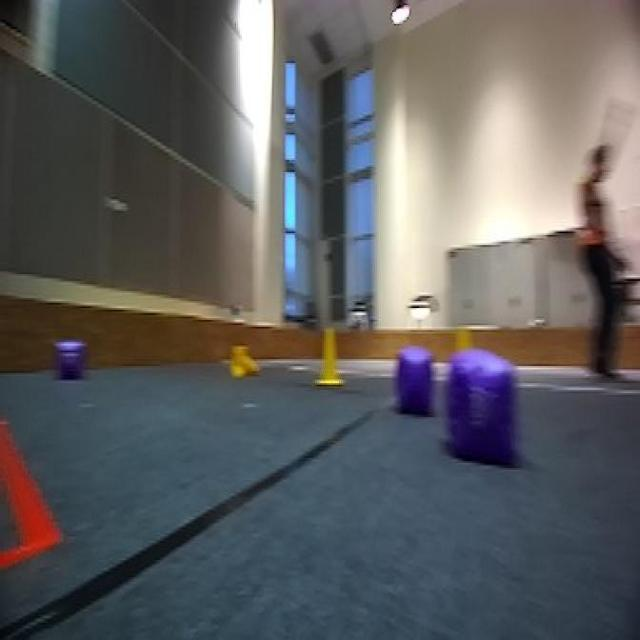frc_cone: (313, 325, 344, 392), (229, 342, 260, 380)
frc_cube: (443, 352, 520, 462), (391, 344, 439, 412), (54, 337, 88, 388)
